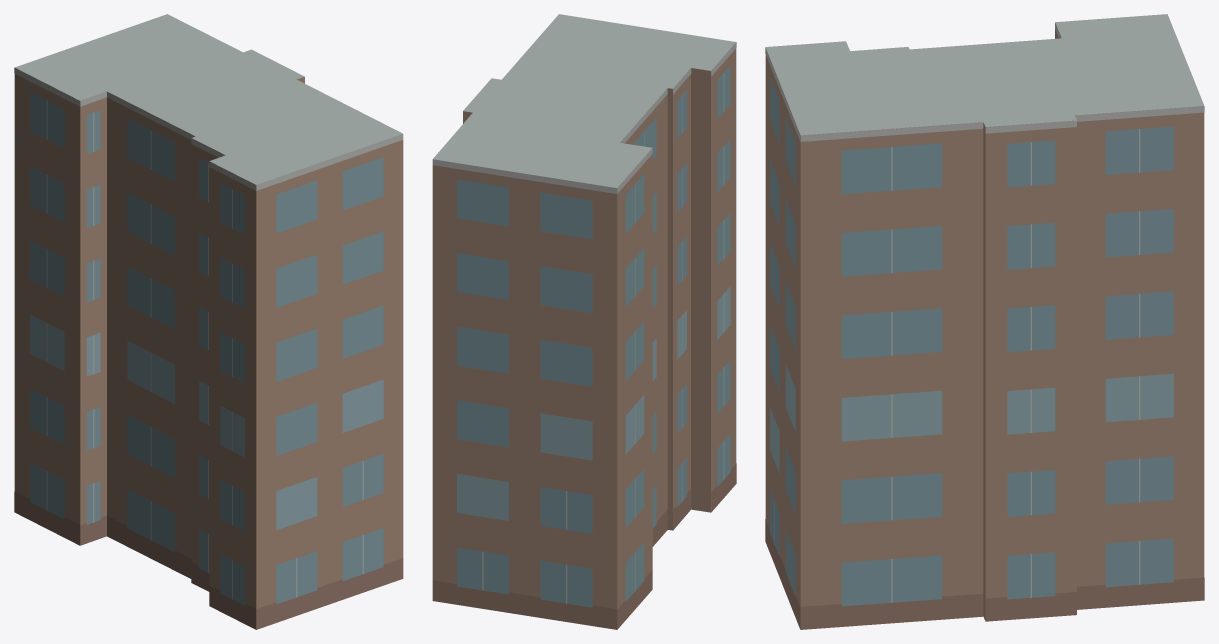
The model's file is survey-upis-32746165.glb.
The picture shows the model from 3 angles, left to right: view 1: azimuth 30°, elevation 25°; view 2: azimuth 150°, elevation 25°; view 3: azimuth 270°, elevation 25°; orthographic projection. The views are drawn at different scales.
Parts seen in each view (by area): view 1: survey-upis-32746165.tmp; view 2: survey-upis-32746165.tmp; view 3: survey-upis-32746165.tmp.
Boxes of the visible parts, box(x1,y1,x2,y2) form: survey-upis-32746165.tmp: box(14, 14, 403, 629); survey-upis-32746165.tmp: box(432, 14, 736, 629); survey-upis-32746165.tmp: box(765, 14, 1204, 629).
Bounding box in the file's own units: 9.64 × 18.3 × 14.73.
